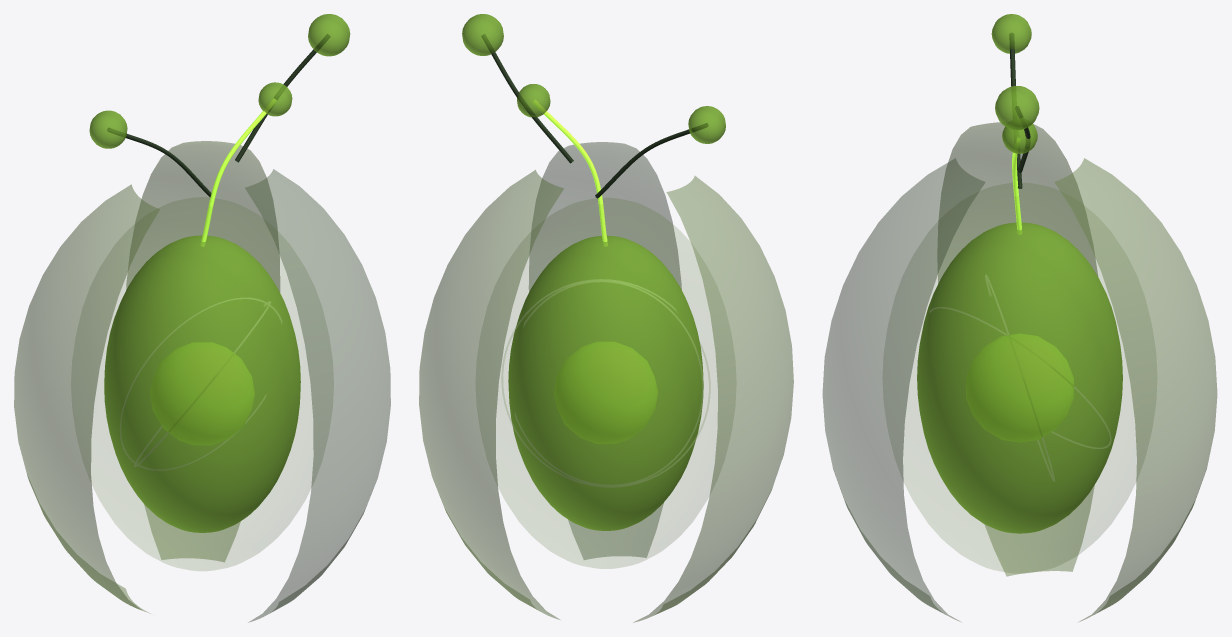
Rendered from pmu-seedpod.glb.
3 views of the same model, side by side, from view 1: azimuth 30°, elevation 25°; view 2: azimuth 150°, elevation 25°; view 3: azimuth 270°, elevation 25° (orthographic). The views are drawn at different scales.
Parts seen in each view (by area): view 1: MEMORY_EMBRYO, PETAL_01, PETAL_00, SEED_MEMBRANE, PETAL_02, ACTIVE_MEMORY, SKILL_BUD_2, SKILL_BUD_1, SKILL_BUD_0, SKILL_STEM_0, SKILL_STEM_2, SKILL_STEM_1; view 2: MEMORY_EMBRYO, PETAL_02, PETAL_00, SEED_MEMBRANE, PETAL_01, ACTIVE_MEMORY, SKILL_BUD_2, SKILL_BUD_1, SKILL_BUD_0, SKILL_STEM_0, SKILL_STEM_2, SKILL_STEM_1; view 3: MEMORY_EMBRYO, PETAL_02, PETAL_01, SEED_MEMBRANE, PETAL_00, ACTIVE_MEMORY, SKILL_BUD_2, SKILL_BUD_1, SKILL_BUD_0.
Boxes of the visible parts, <box> form: MEMORY_EMBRYO: <box>104,235,300,532</box>; PETAL_01: <box>245,169,390,622</box>; PETAL_00: <box>14,184,159,613</box>; SEED_MEMBRANE: <box>91,197,313,570</box>; PETAL_02: <box>126,141,279,562</box>; ACTIVE_MEMORY: <box>150,342,254,444</box>; SKILL_BUD_2: <box>308,14,350,56</box>; SKILL_BUD_1: <box>89,110,127,148</box>; SKILL_BUD_0: <box>258,82,292,116</box>; SKILL_STEM_0: <box>201,98,276,246</box>; SKILL_STEM_2: <box>235,34,330,162</box>; SKILL_STEM_1: <box>107,128,211,197</box>; MEMORY_EMBRYO: <box>508,235,703,530</box>; PETAL_02: <box>419,170,563,619</box>; PETAL_00: <box>633,176,793,622</box>; SEED_MEMBRANE: <box>496,198,717,568</box>; PETAL_01: <box>529,142,681,559</box>; ACTIVE_MEMORY: <box>554,342,657,443</box>; SKILL_BUD_2: <box>462,14,503,55</box>; SKILL_BUD_1: <box>688,106,725,143</box>; SKILL_BUD_0: <box>517,84,550,117</box>; SKILL_STEM_0: <box>532,99,607,246</box>; SKILL_STEM_2: <box>481,34,573,163</box>; SKILL_STEM_1: <box>595,123,708,198</box>; MEMORY_EMBRYO: <box>917,222,1122,533</box>; PETAL_02: <box>1054,158,1217,622</box>; PETAL_01: <box>822,158,985,621</box>; SEED_MEMBRANE: <box>903,183,1136,572</box>; PETAL_00: <box>937,122,1097,576</box>; ACTIVE_MEMORY: <box>966,334,1073,442</box>; SKILL_BUD_2: <box>995,86,1039,130</box>; SKILL_BUD_1: <box>991,14,1031,53</box>; SKILL_BUD_0: <box>1002,124,1037,153</box>.
Bounding box in the file's own units: 1.35 × 2.32 × 1.44.
